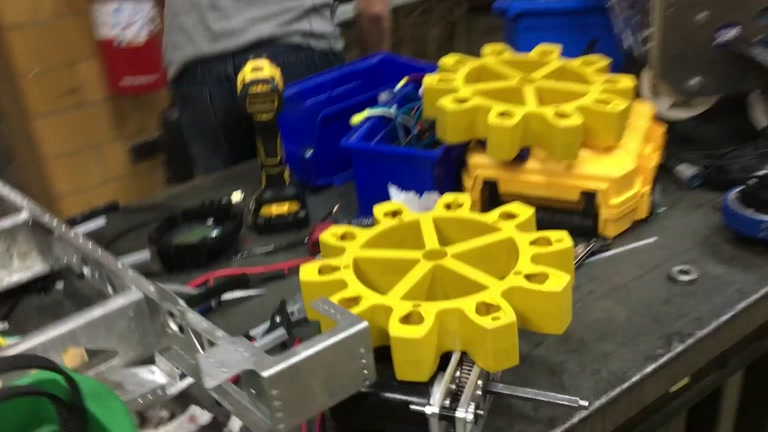gear: (299, 190, 575, 383), (421, 42, 636, 161)
